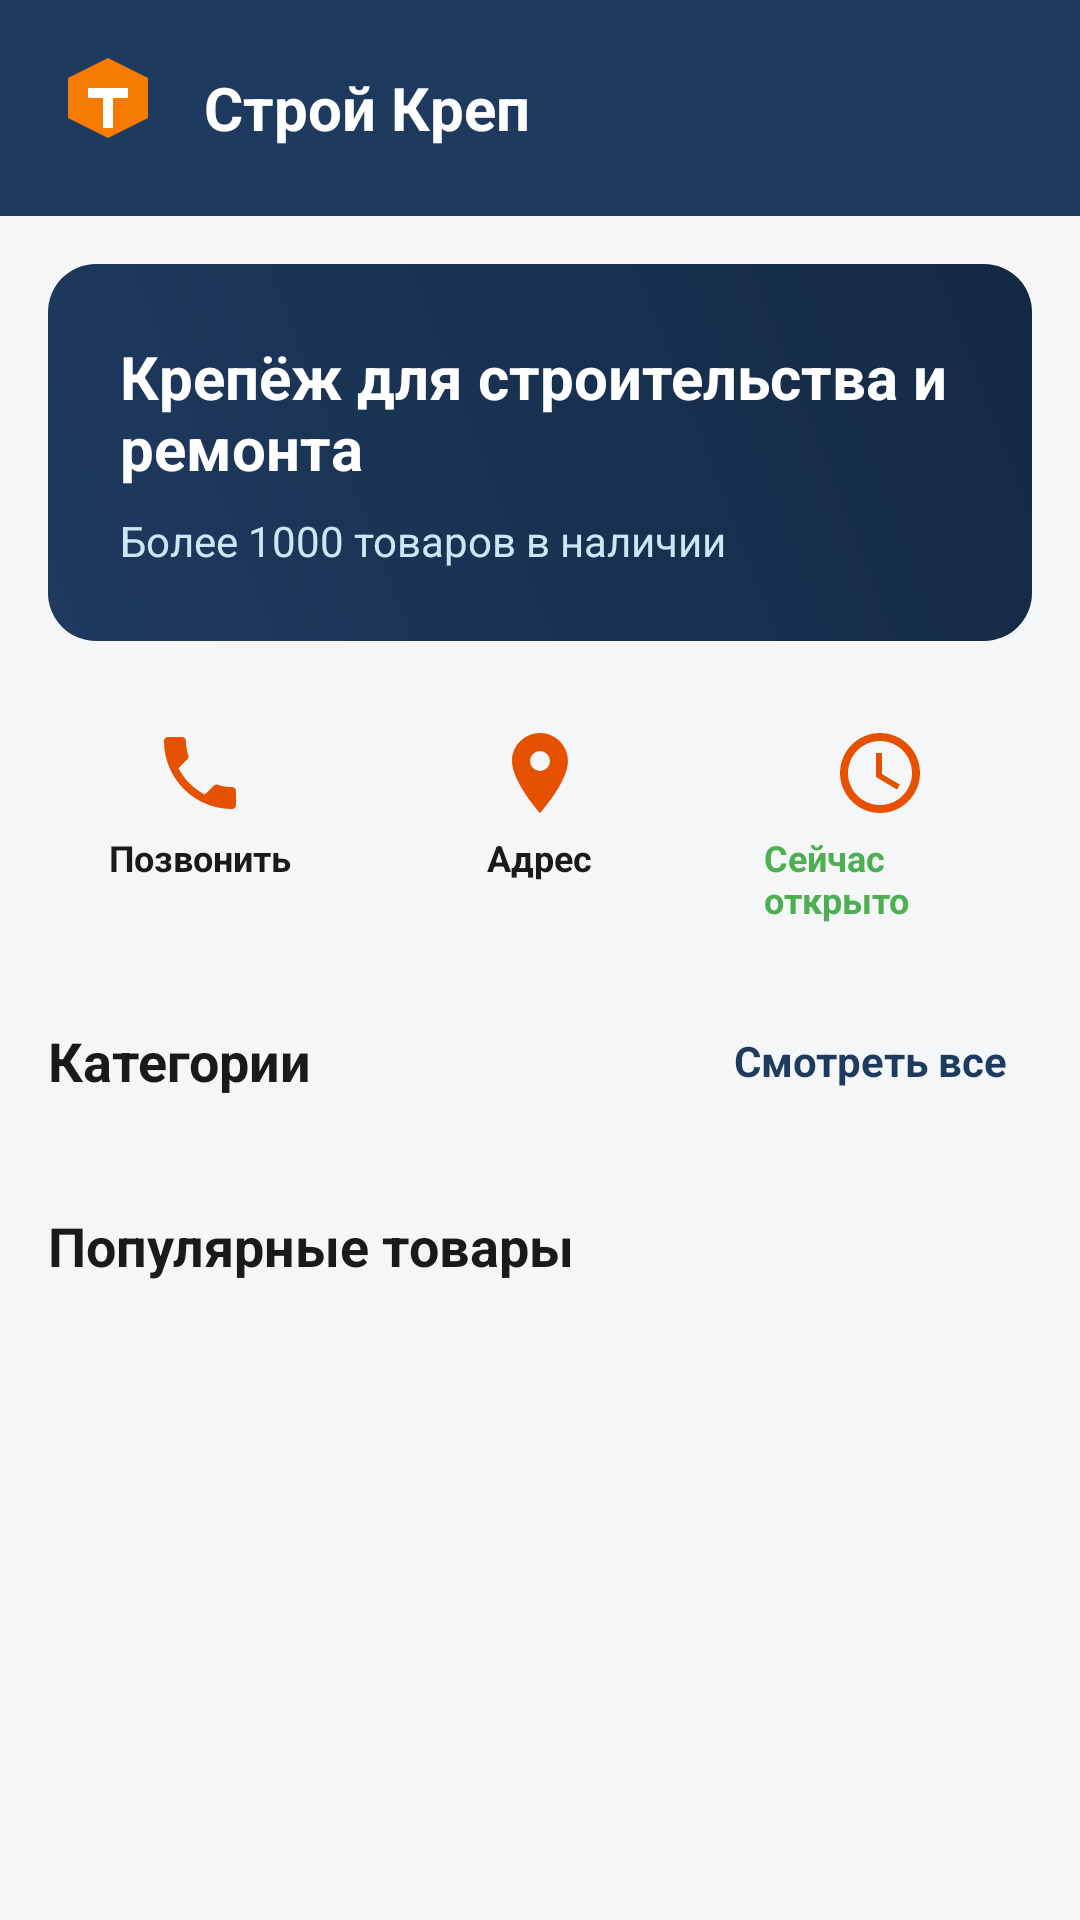

Icons on this 1080w x 1920h Android screen, each with the point to tap as (x=x, y=y):
clock: (x=880, y=773)
phone: (x=200, y=773)
pin: (x=540, y=773)
